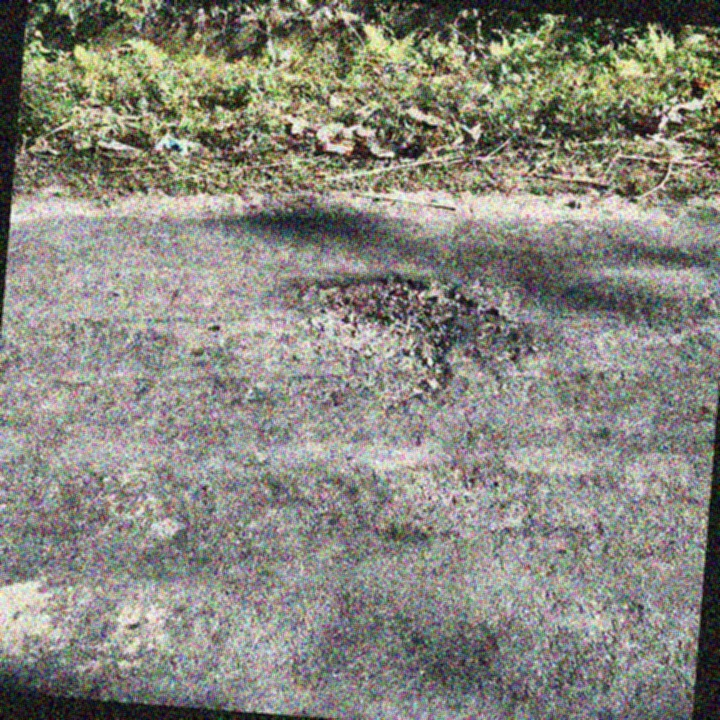pothole: (285, 265, 493, 397)
